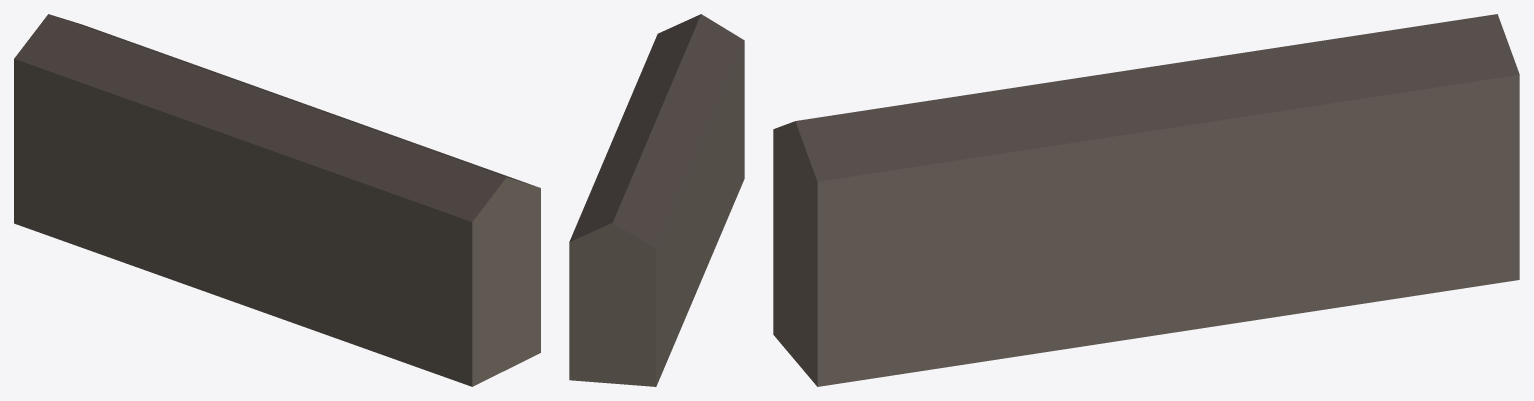
3 renders of one model, left to right at view 1: azimuth 30°, elevation 25°; view 2: azimuth 150°, elevation 25°; view 3: azimuth 270°, elevation 25°, orthographic. The views are drawn at different scales.
Visible parts, largest first — view 1: HP-w408450691; view 2: HP-w408450691; view 3: HP-w408450691.
Boxes of the visible parts, x1,y1,x2,y2 form: HP-w408450691: [14, 14, 540, 386]; HP-w408450691: [569, 14, 744, 386]; HP-w408450691: [773, 14, 1519, 386].
Bounding box in the file's own units: 15.01 × 10.51 × 29.68.
